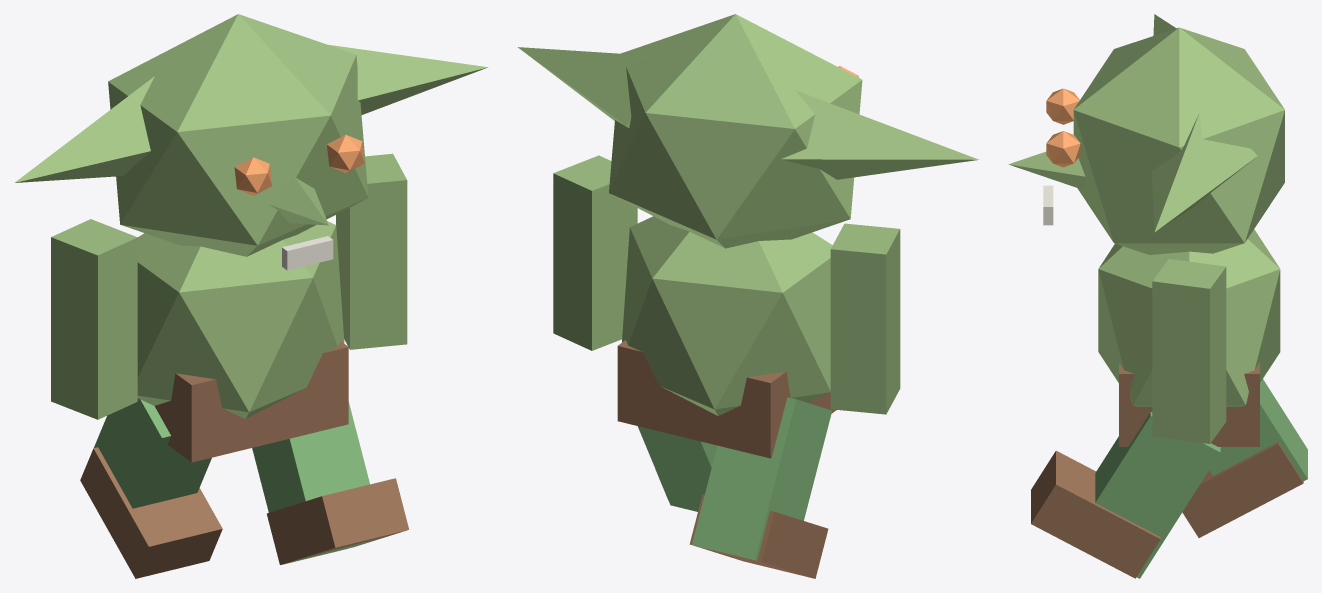
File: npcpose_goblin_walk_03.glb
3 renders of one model, left to right at view 1: azimuth 30°, elevation 25°; view 2: azimuth 150°, elevation 25°; view 3: azimuth 270°, elevation 25°, orthographic. The views are drawn at different scales.
Parts seen in each view (by area): view 1: npcpose; view 2: npcpose; view 3: npcpose.
Boxes of the visible parts, x1,y1,x2,y2 form: npcpose: (15,14,487,578); npcpose: (518,14,979,578); npcpose: (1008,14,1307,578).
Size of the model in its own units: 1.03 by 1.14 by 0.5953.
